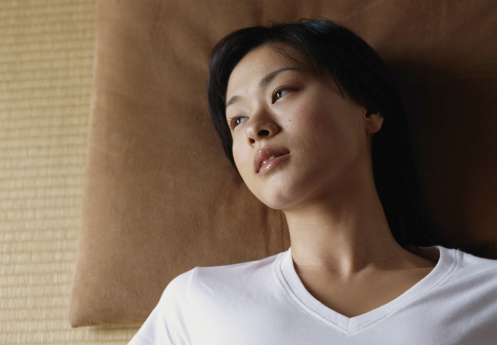deitado: (91, 0, 497, 345)
